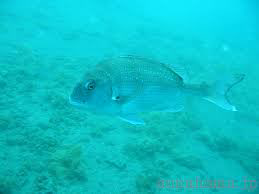tai: (63, 55, 243, 125)
